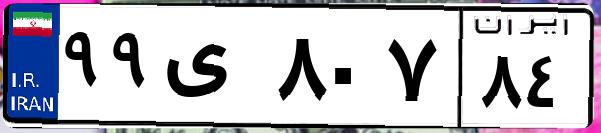0: (330, 28, 385, 110)
4: (525, 38, 570, 115)
7: (385, 28, 445, 110)
8: (270, 28, 330, 110), (475, 38, 525, 113)
9: (57, 26, 110, 100), (110, 28, 158, 98)
ی: (158, 20, 270, 120)
